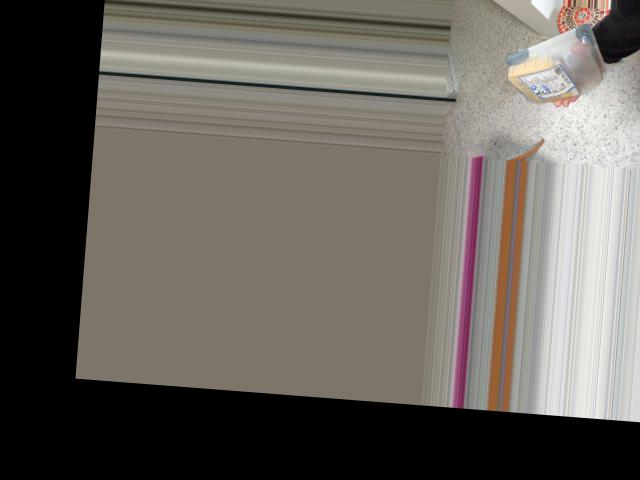cheese: (498, 19, 624, 111)
